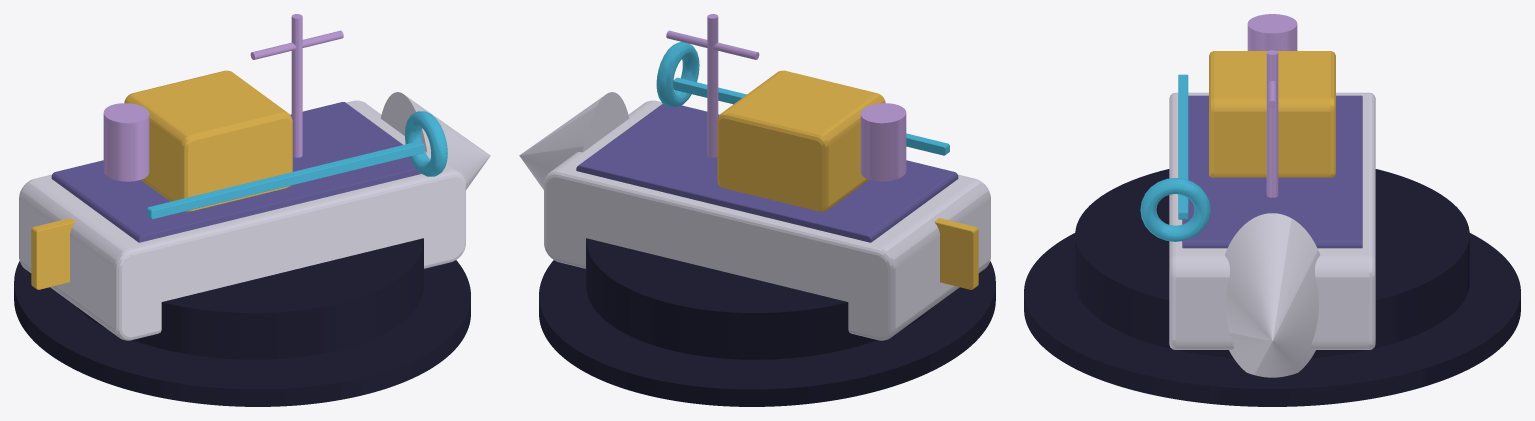
File: 0923_秦汉图鉴_楼船.glb
3 renders of one model, left to right at view 1: azimuth 30°, elevation 25°; view 2: azimuth 150°, elevation 25°; view 3: azimuth 270°, elevation 25°, orthographic. The views are drawn at different scales.
Visible parts, largest first — view 1: card_0923; view 2: card_0923; view 3: card_0923.
Part boxes in pixels (x1,y1,x2,y2): card_0923: (14, 14, 490, 406); card_0923: (519, 14, 995, 406); card_0923: (1024, 14, 1520, 406).
Bounding box in the file's own units: 1.73 × 1 × 1.58.
